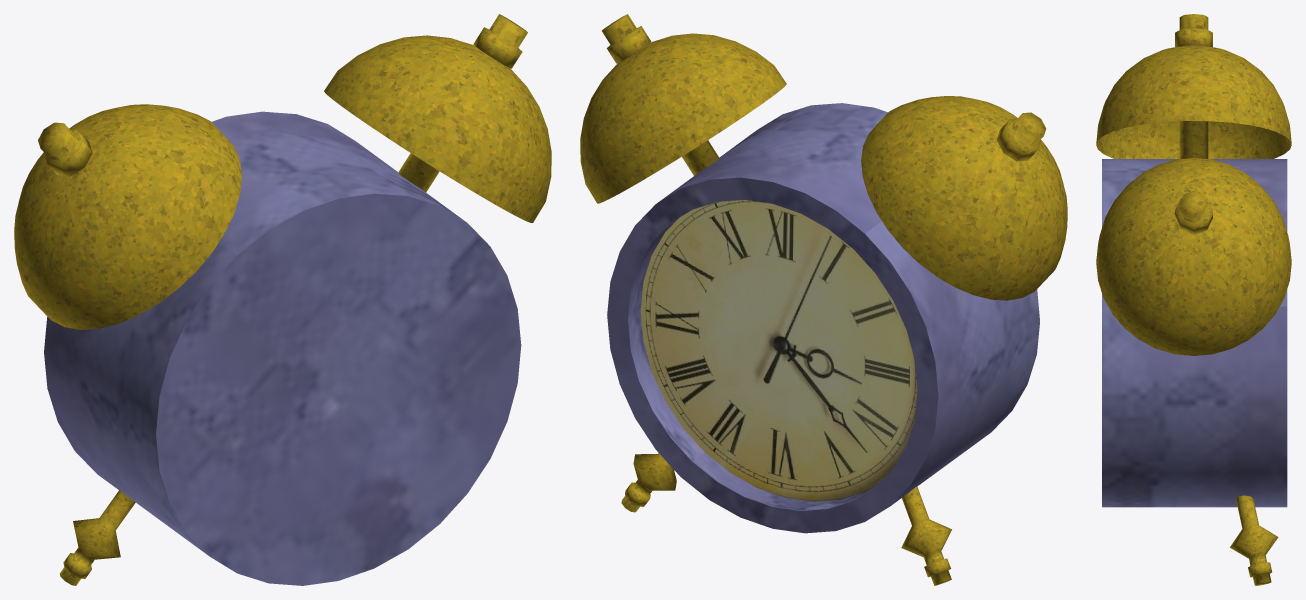
Rendered from clock 1.fbx.
3 views of the same model, side by side, from view 1: azimuth 30°, elevation 25°; view 2: azimuth 150°, elevation 25°; view 3: azimuth 270°, elevation 25° (orthographic). The views are drawn at different scales.
Visible parts, largest first — view 1: Cube.006; view 2: Cube.006; view 3: Cube.006.
Part boxes in pixels (bbox=[...]): Cube.006: bbox=[14, 14, 551, 585]; Cube.006: bbox=[580, 14, 1067, 585]; Cube.006: bbox=[1096, 14, 1291, 585].
Size of the model in its own units: 277 by 263 by 112.
1 material, 1 textured.
